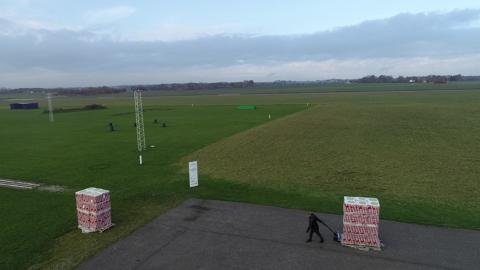RockwoolPallet: (76, 185, 113, 229)
